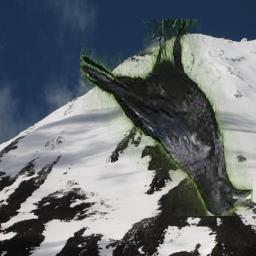Crow: (81, 20, 254, 217)
